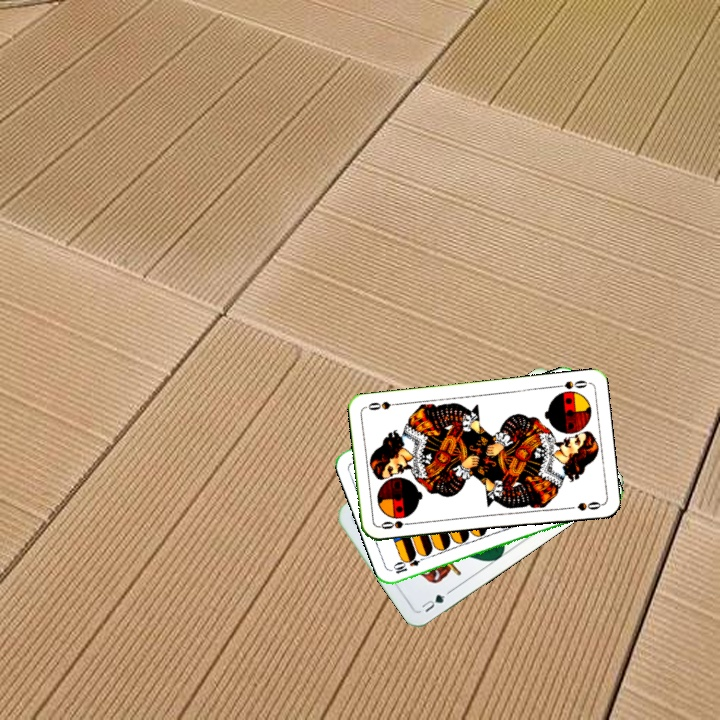E10: (389, 551, 429, 576)
GU: (417, 587, 453, 615)
SO: (376, 516, 416, 532), (550, 376, 590, 392)
